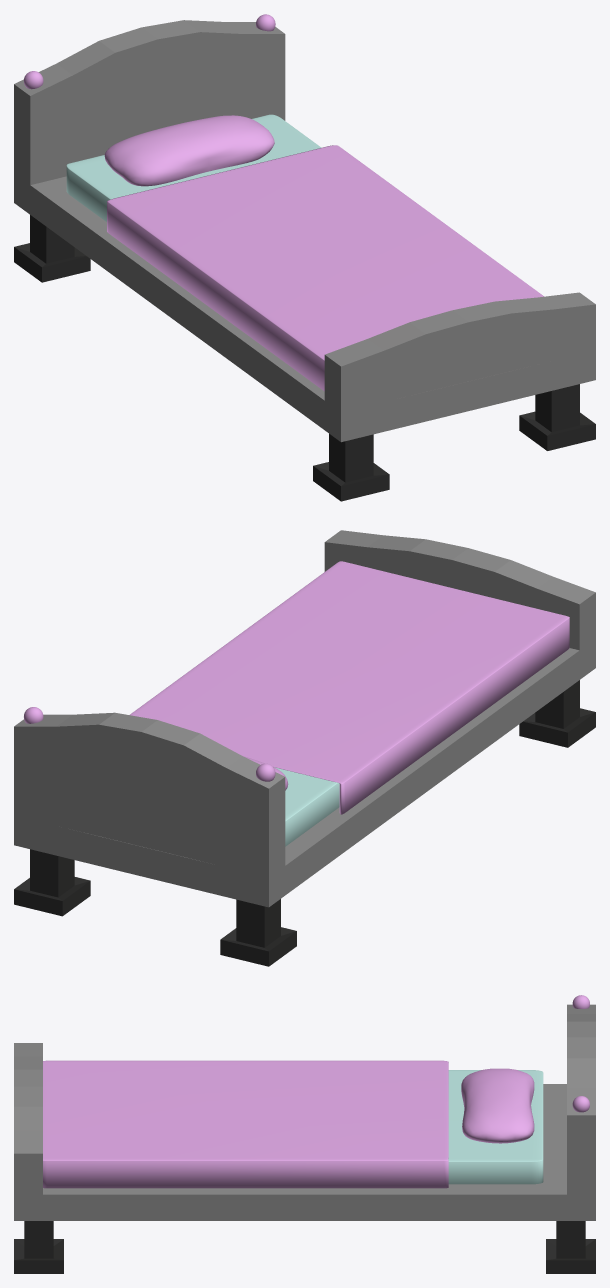
The model's file is SingleBed.fbx.
3 renders of one model, top to bottom at view 1: azimuth 30°, elevation 25°; view 2: azimuth 150°, elevation 25°; view 3: azimuth 270°, elevation 25°, orthographic. The views are drawn at different scales.
Visible parts, largest first — view 1: SingleBed; view 2: SingleBed; view 3: SingleBed.
Part boxes in pixels (x1,y1,x2,y2): SingleBed: [14, 14, 595, 501]; SingleBed: [14, 530, 595, 966]; SingleBed: [14, 995, 595, 1273].
Size of the model in its own units: 0.9 by 2 by 0.6871.
